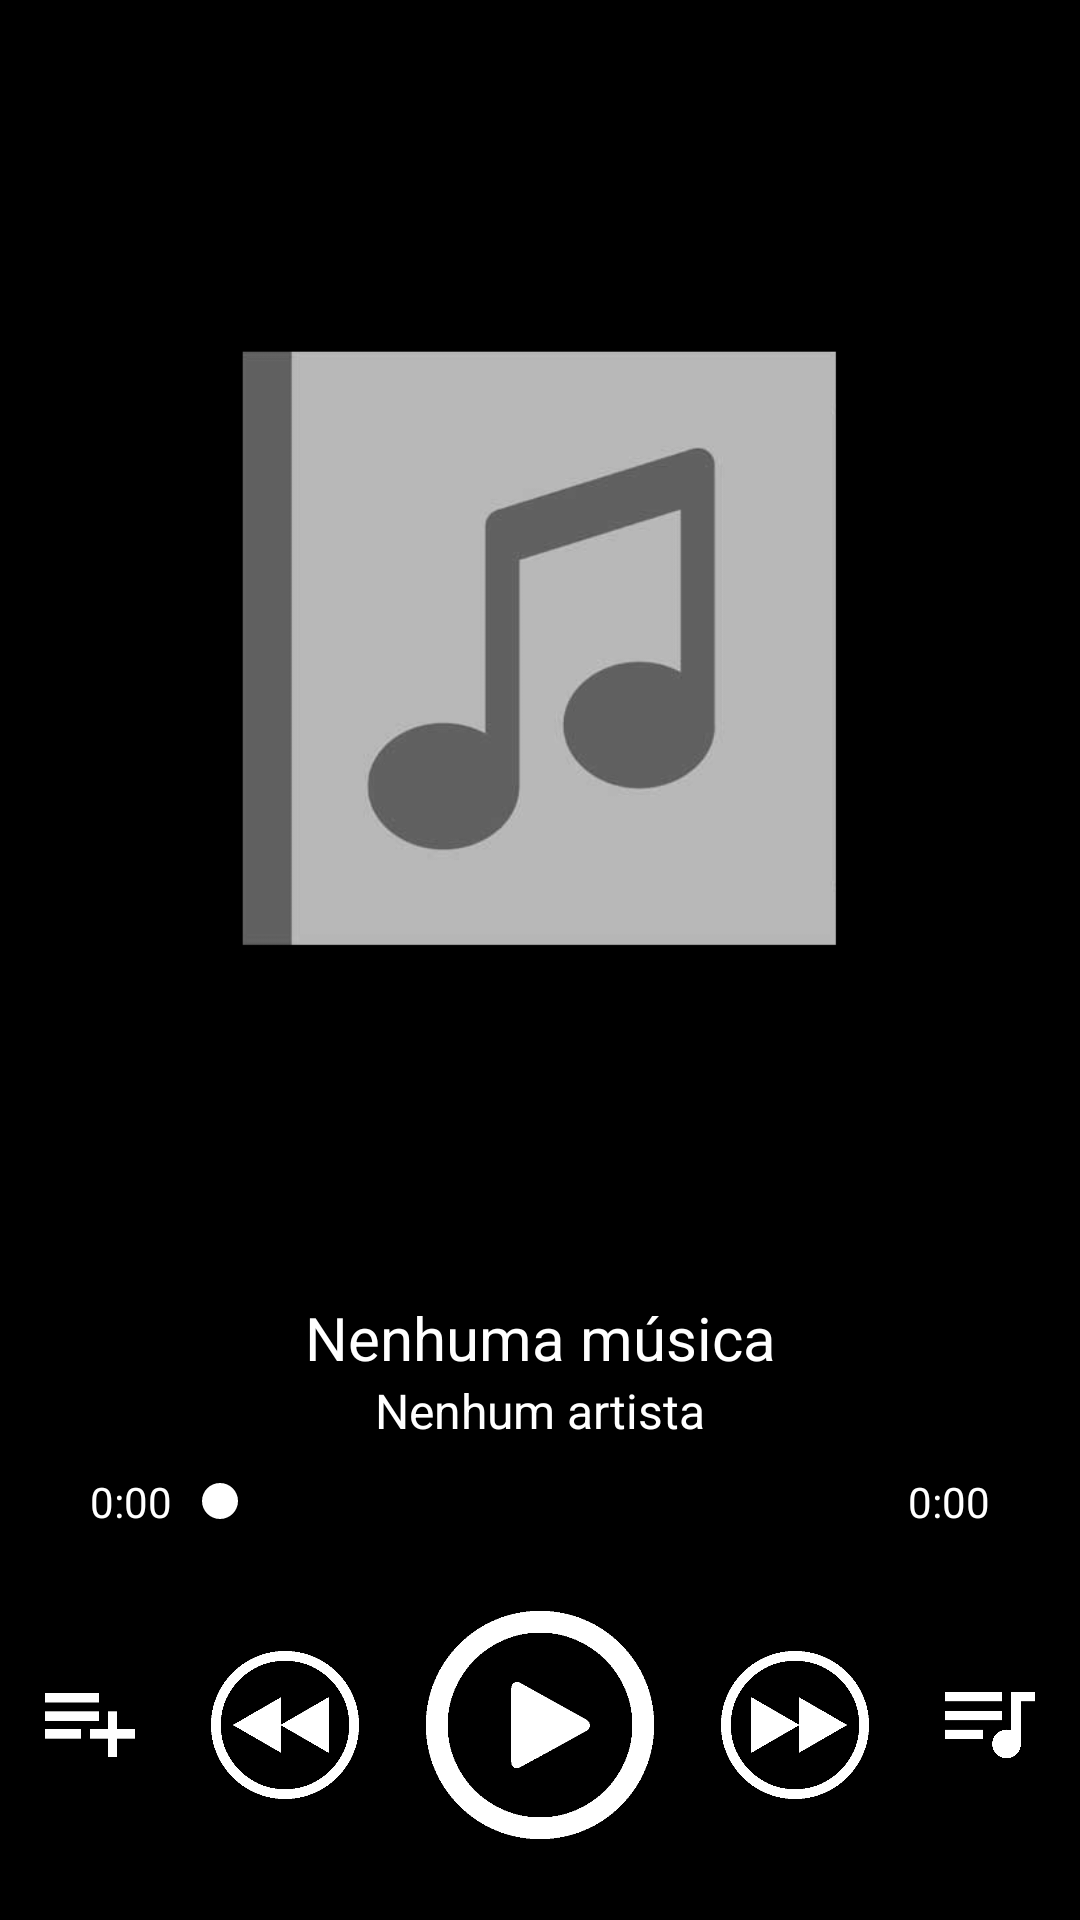

Named icons in this screenshot (1080×1920) and their centers, point (x, y):
Anterior: point (285, 1725)
Executar: point (540, 1725)
playlist add: point (90, 1725)
playlist current: point (990, 1725)
Próxima: point (795, 1725)
